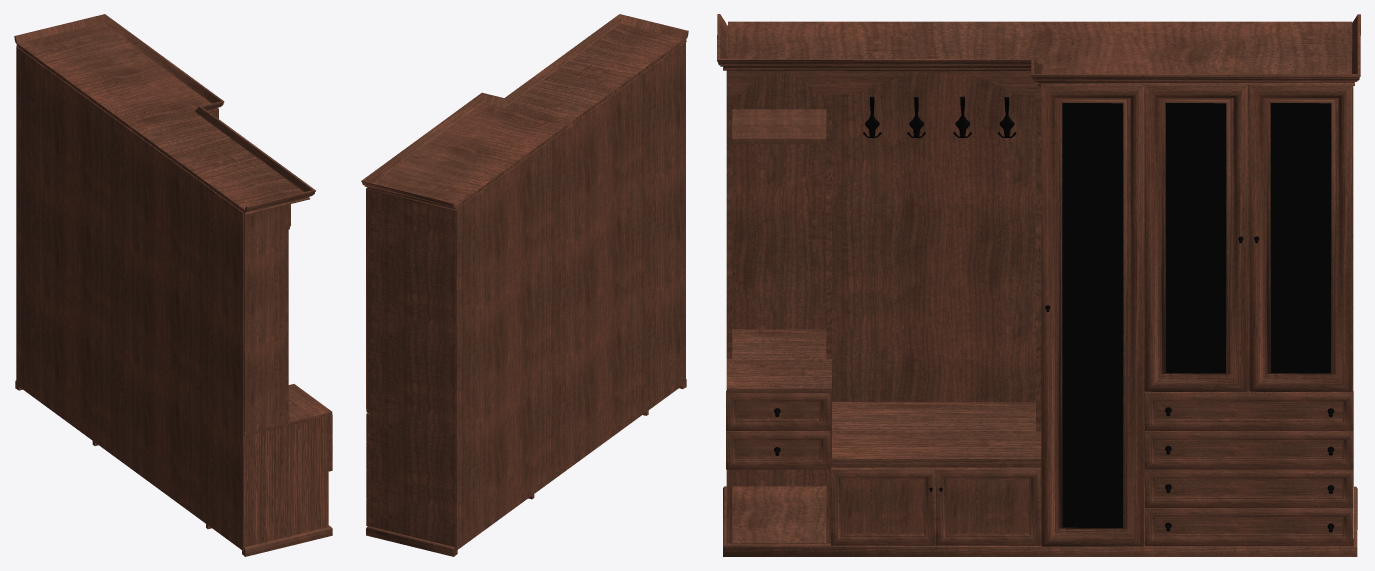
File: garderobe_ohne_tuer.fbx
3 views of the same model, side by side, from view 1: azimuth 30°, elevation 25°; view 2: azimuth 150°, elevation 25°; view 3: azimuth 270°, elevation 25° (orthographic). The views are drawn at different scales.
Parts seen in each view (by area): view 1: Rectangle013; view 2: Rectangle013; view 3: Rectangle013.
Boxes of the visible parts, <box> form: Rectangle013: <box>14,14,332,556</box>; Rectangle013: <box>361,14,688,556</box>; Rectangle013: <box>717,14,1360,556</box>.
Size of the model in its own units: 0.6616 by 2.3 by 2.77.
